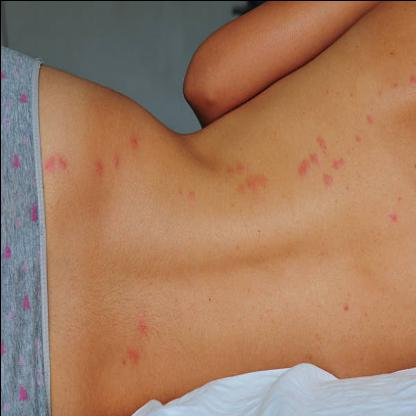Bed Bug: (208, 158, 268, 200), (40, 148, 67, 178), (291, 149, 316, 177), (172, 180, 196, 200), (119, 342, 140, 362), (132, 314, 151, 336), (336, 292, 353, 314), (329, 152, 348, 170), (318, 170, 335, 190), (108, 150, 124, 171), (92, 152, 102, 182), (406, 66, 416, 90), (314, 130, 328, 147), (127, 130, 138, 151), (386, 204, 398, 223), (363, 110, 376, 126), (389, 76, 399, 92), (352, 132, 362, 144), (412, 152, 416, 170)
